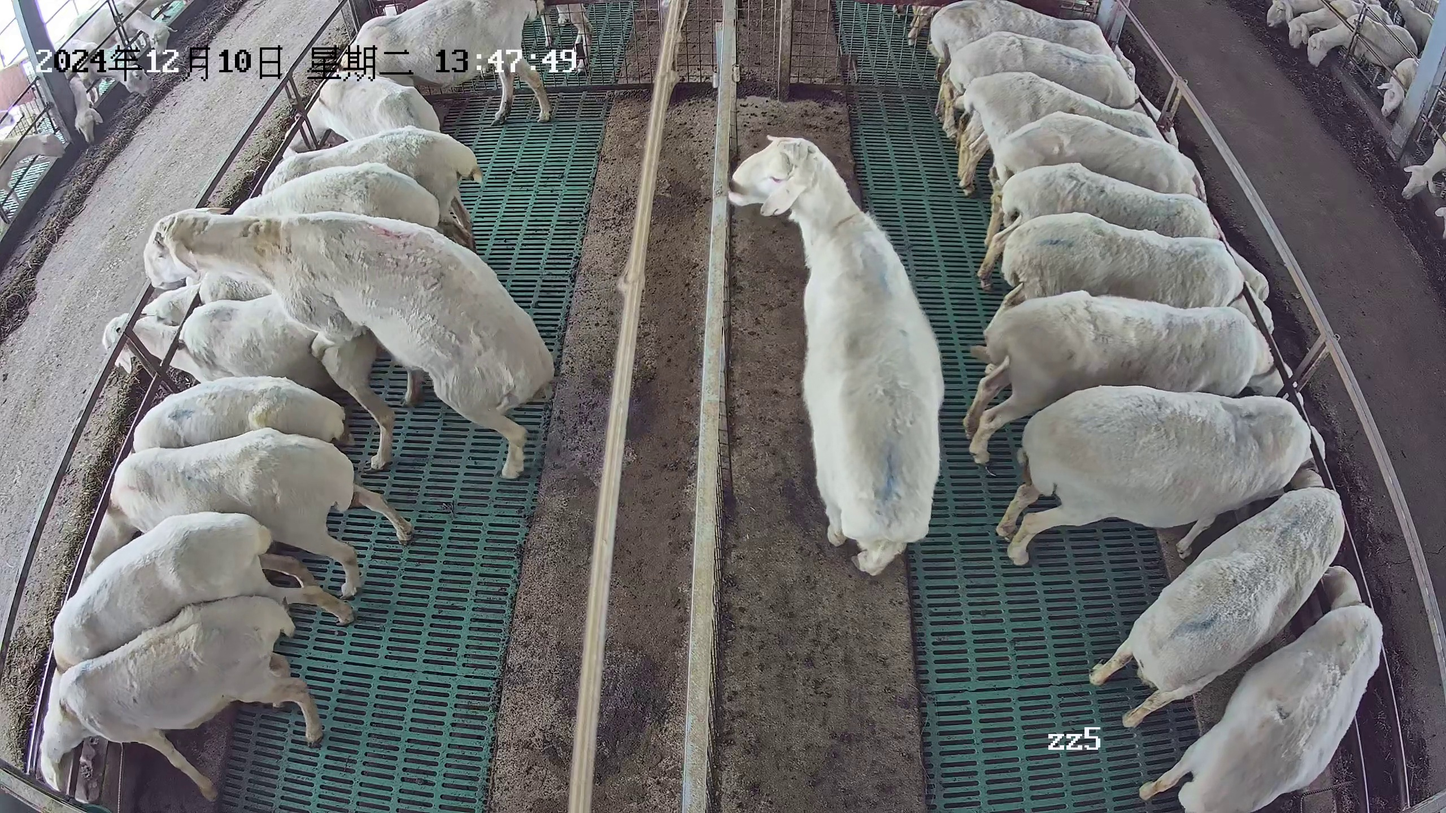Smounting: (98, 206, 556, 481)
mounted: (102, 289, 419, 470)
